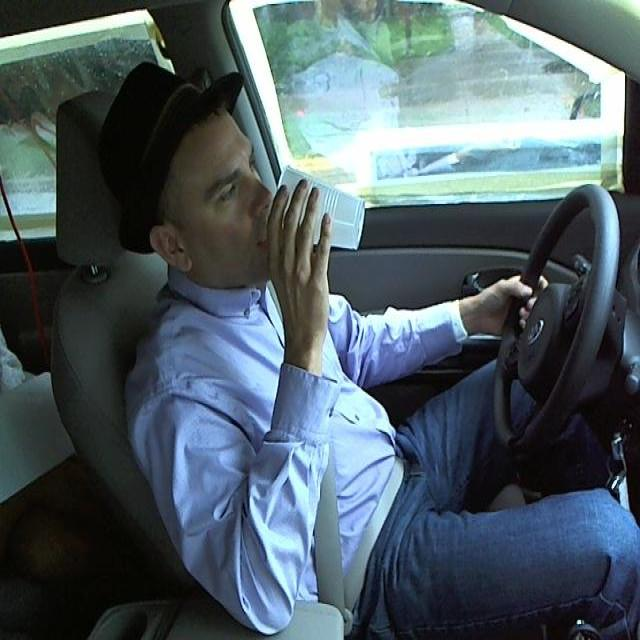Seatbelt: (265, 167, 364, 260)
